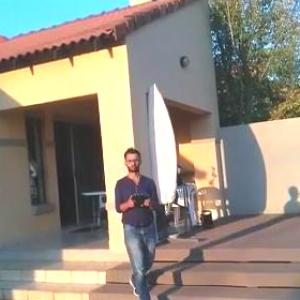follow: (110, 142, 166, 299)
